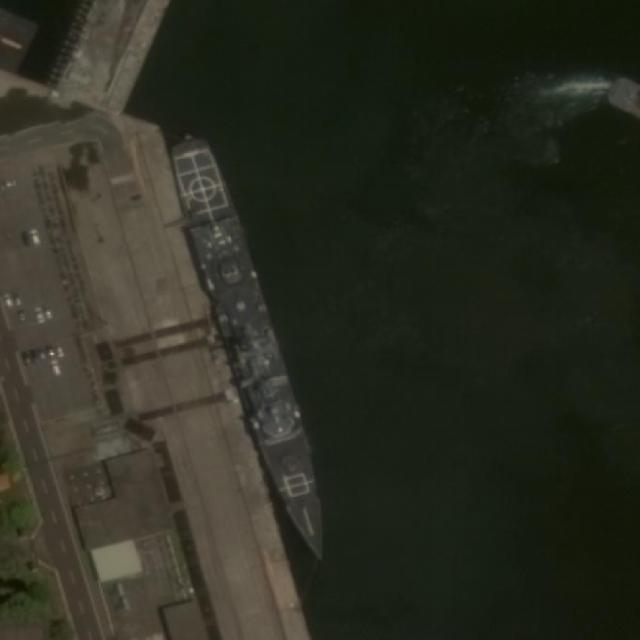Frigate: (162, 132, 342, 568)
